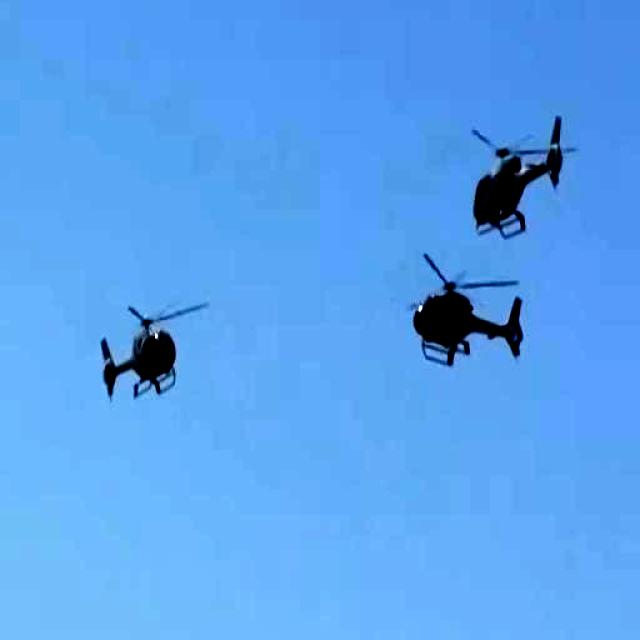drone: (464, 80, 581, 241), (410, 238, 541, 381), (91, 296, 195, 424)
